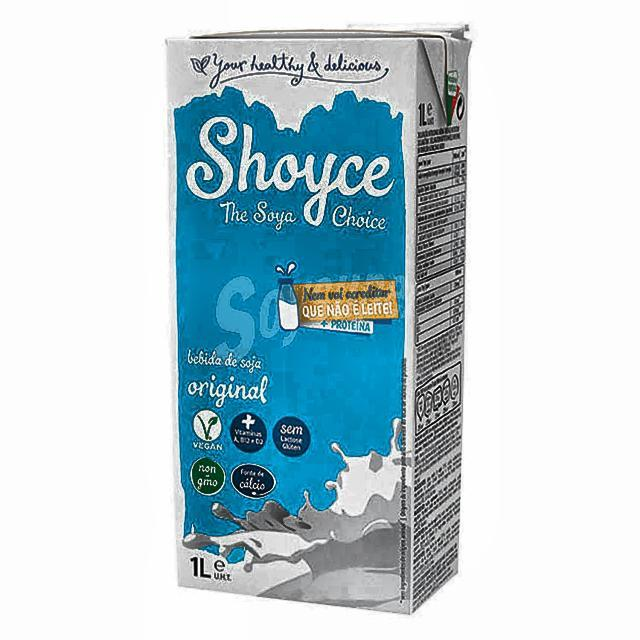cardboard: (167, 28, 470, 614)
